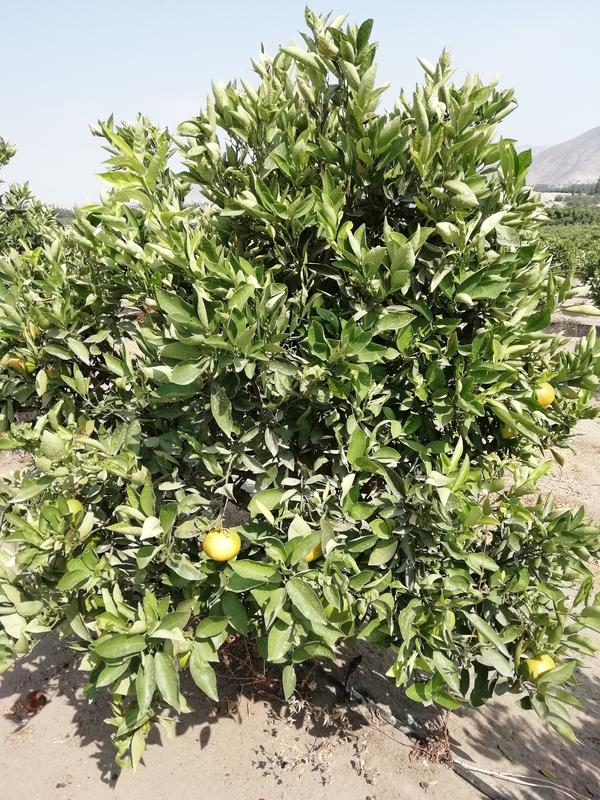mandarina verde: (204, 528, 241, 561), (537, 382, 555, 406)
